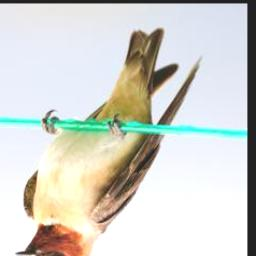Swallow: (14, 27, 203, 256)
